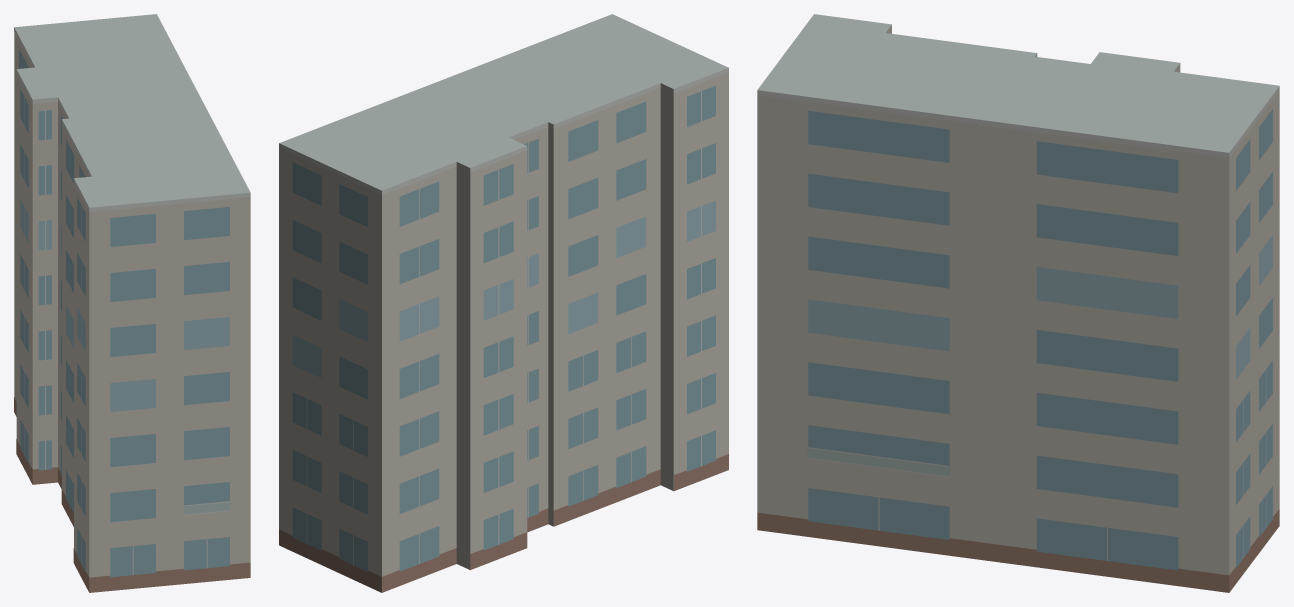
Rendered from survey-upis-33041675.glb.
3 renders of one model, left to right at view 1: azimuth 30°, elevation 25°; view 2: azimuth 150°, elevation 25°; view 3: azimuth 270°, elevation 25°, orthographic. The views are drawn at different scales.
Visible parts, largest first — view 1: survey-upis-33041675.tmp; view 2: survey-upis-33041675.tmp; view 3: survey-upis-33041675.tmp.
Part boxes in pixels (box(x1,y1,x2,y2)): survey-upis-33041675.tmp: box(14, 14, 250, 592); survey-upis-33041675.tmp: box(279, 14, 728, 592); survey-upis-33041675.tmp: box(757, 14, 1279, 592).
Size of the model in its own units: 14.49 by 21.4 by 23.04.
